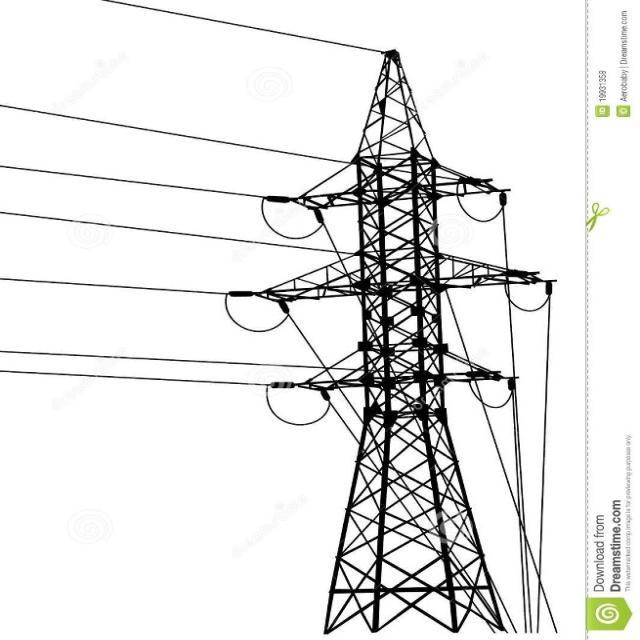non-critical vegetation: (290, 51, 544, 622)
